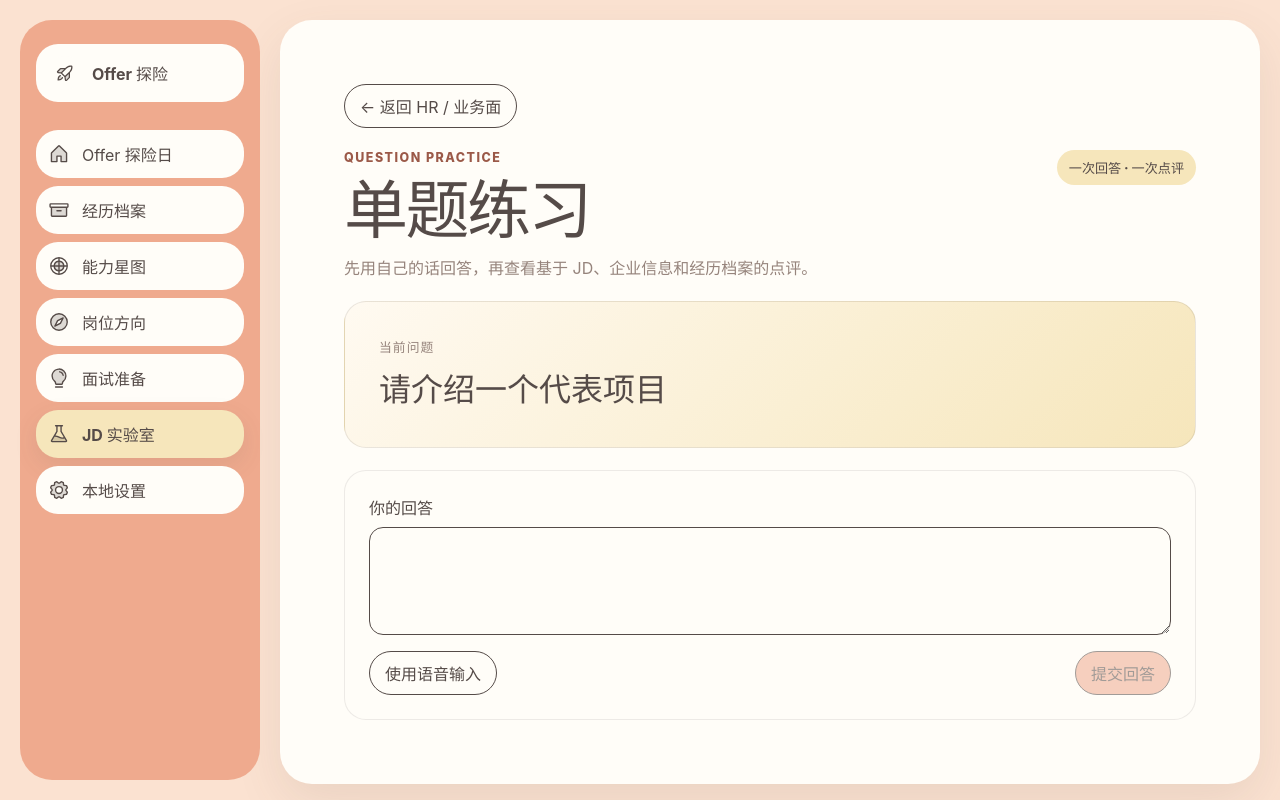
Scenario: mock interview › 单题练习返回到 HR 与业务面入口，而不是空白页
The image size is (1280, 800).
Click the button "← 返回 HR / 业务面": (431, 106) [344, 84, 517, 128]
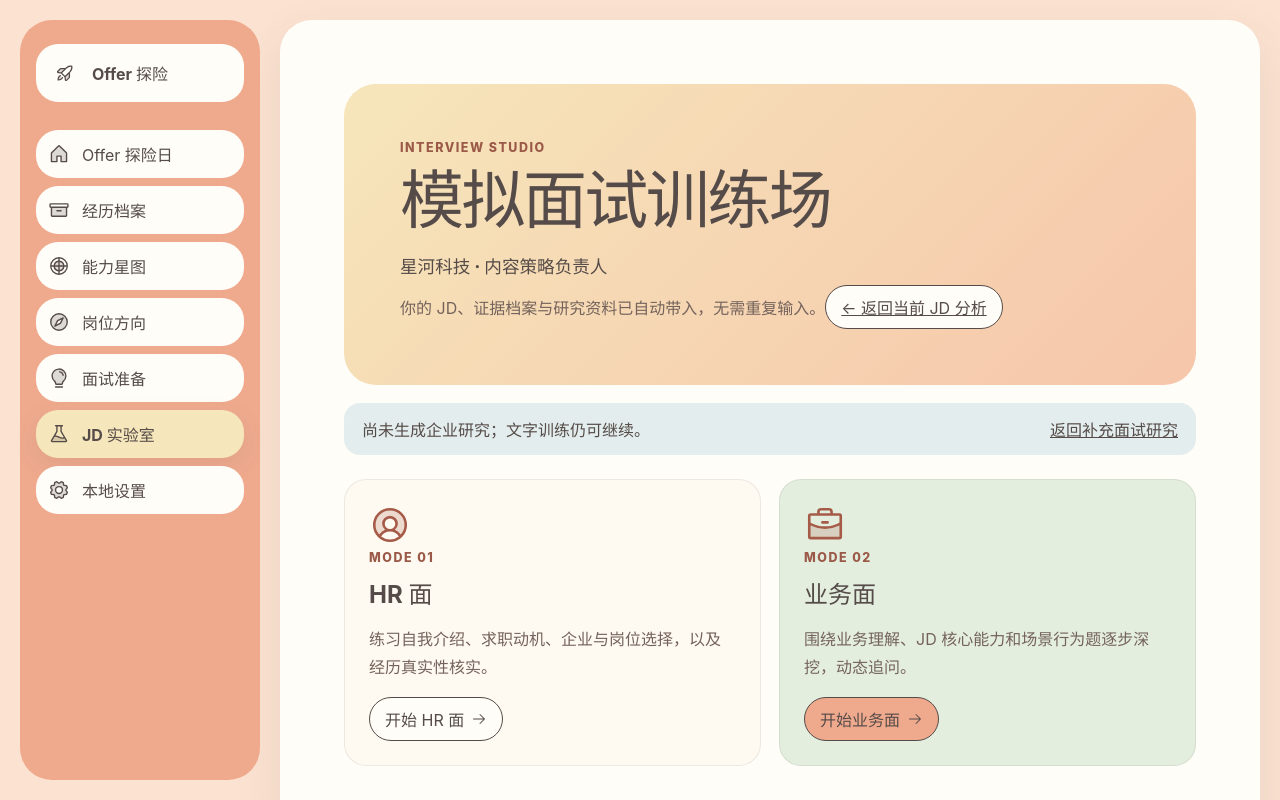
Result: the button "开始 HR 面" is shown at [369, 697, 503, 741]
Result: the button "开始业务面" is shown at [804, 697, 939, 741]
